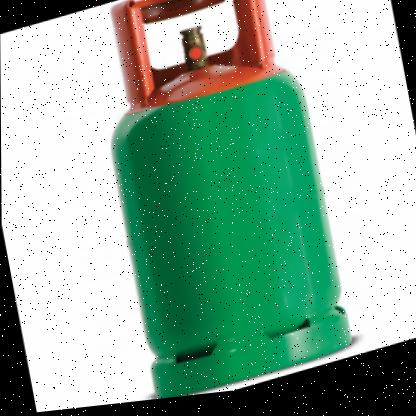gas-tank: (63, 0, 377, 409)
